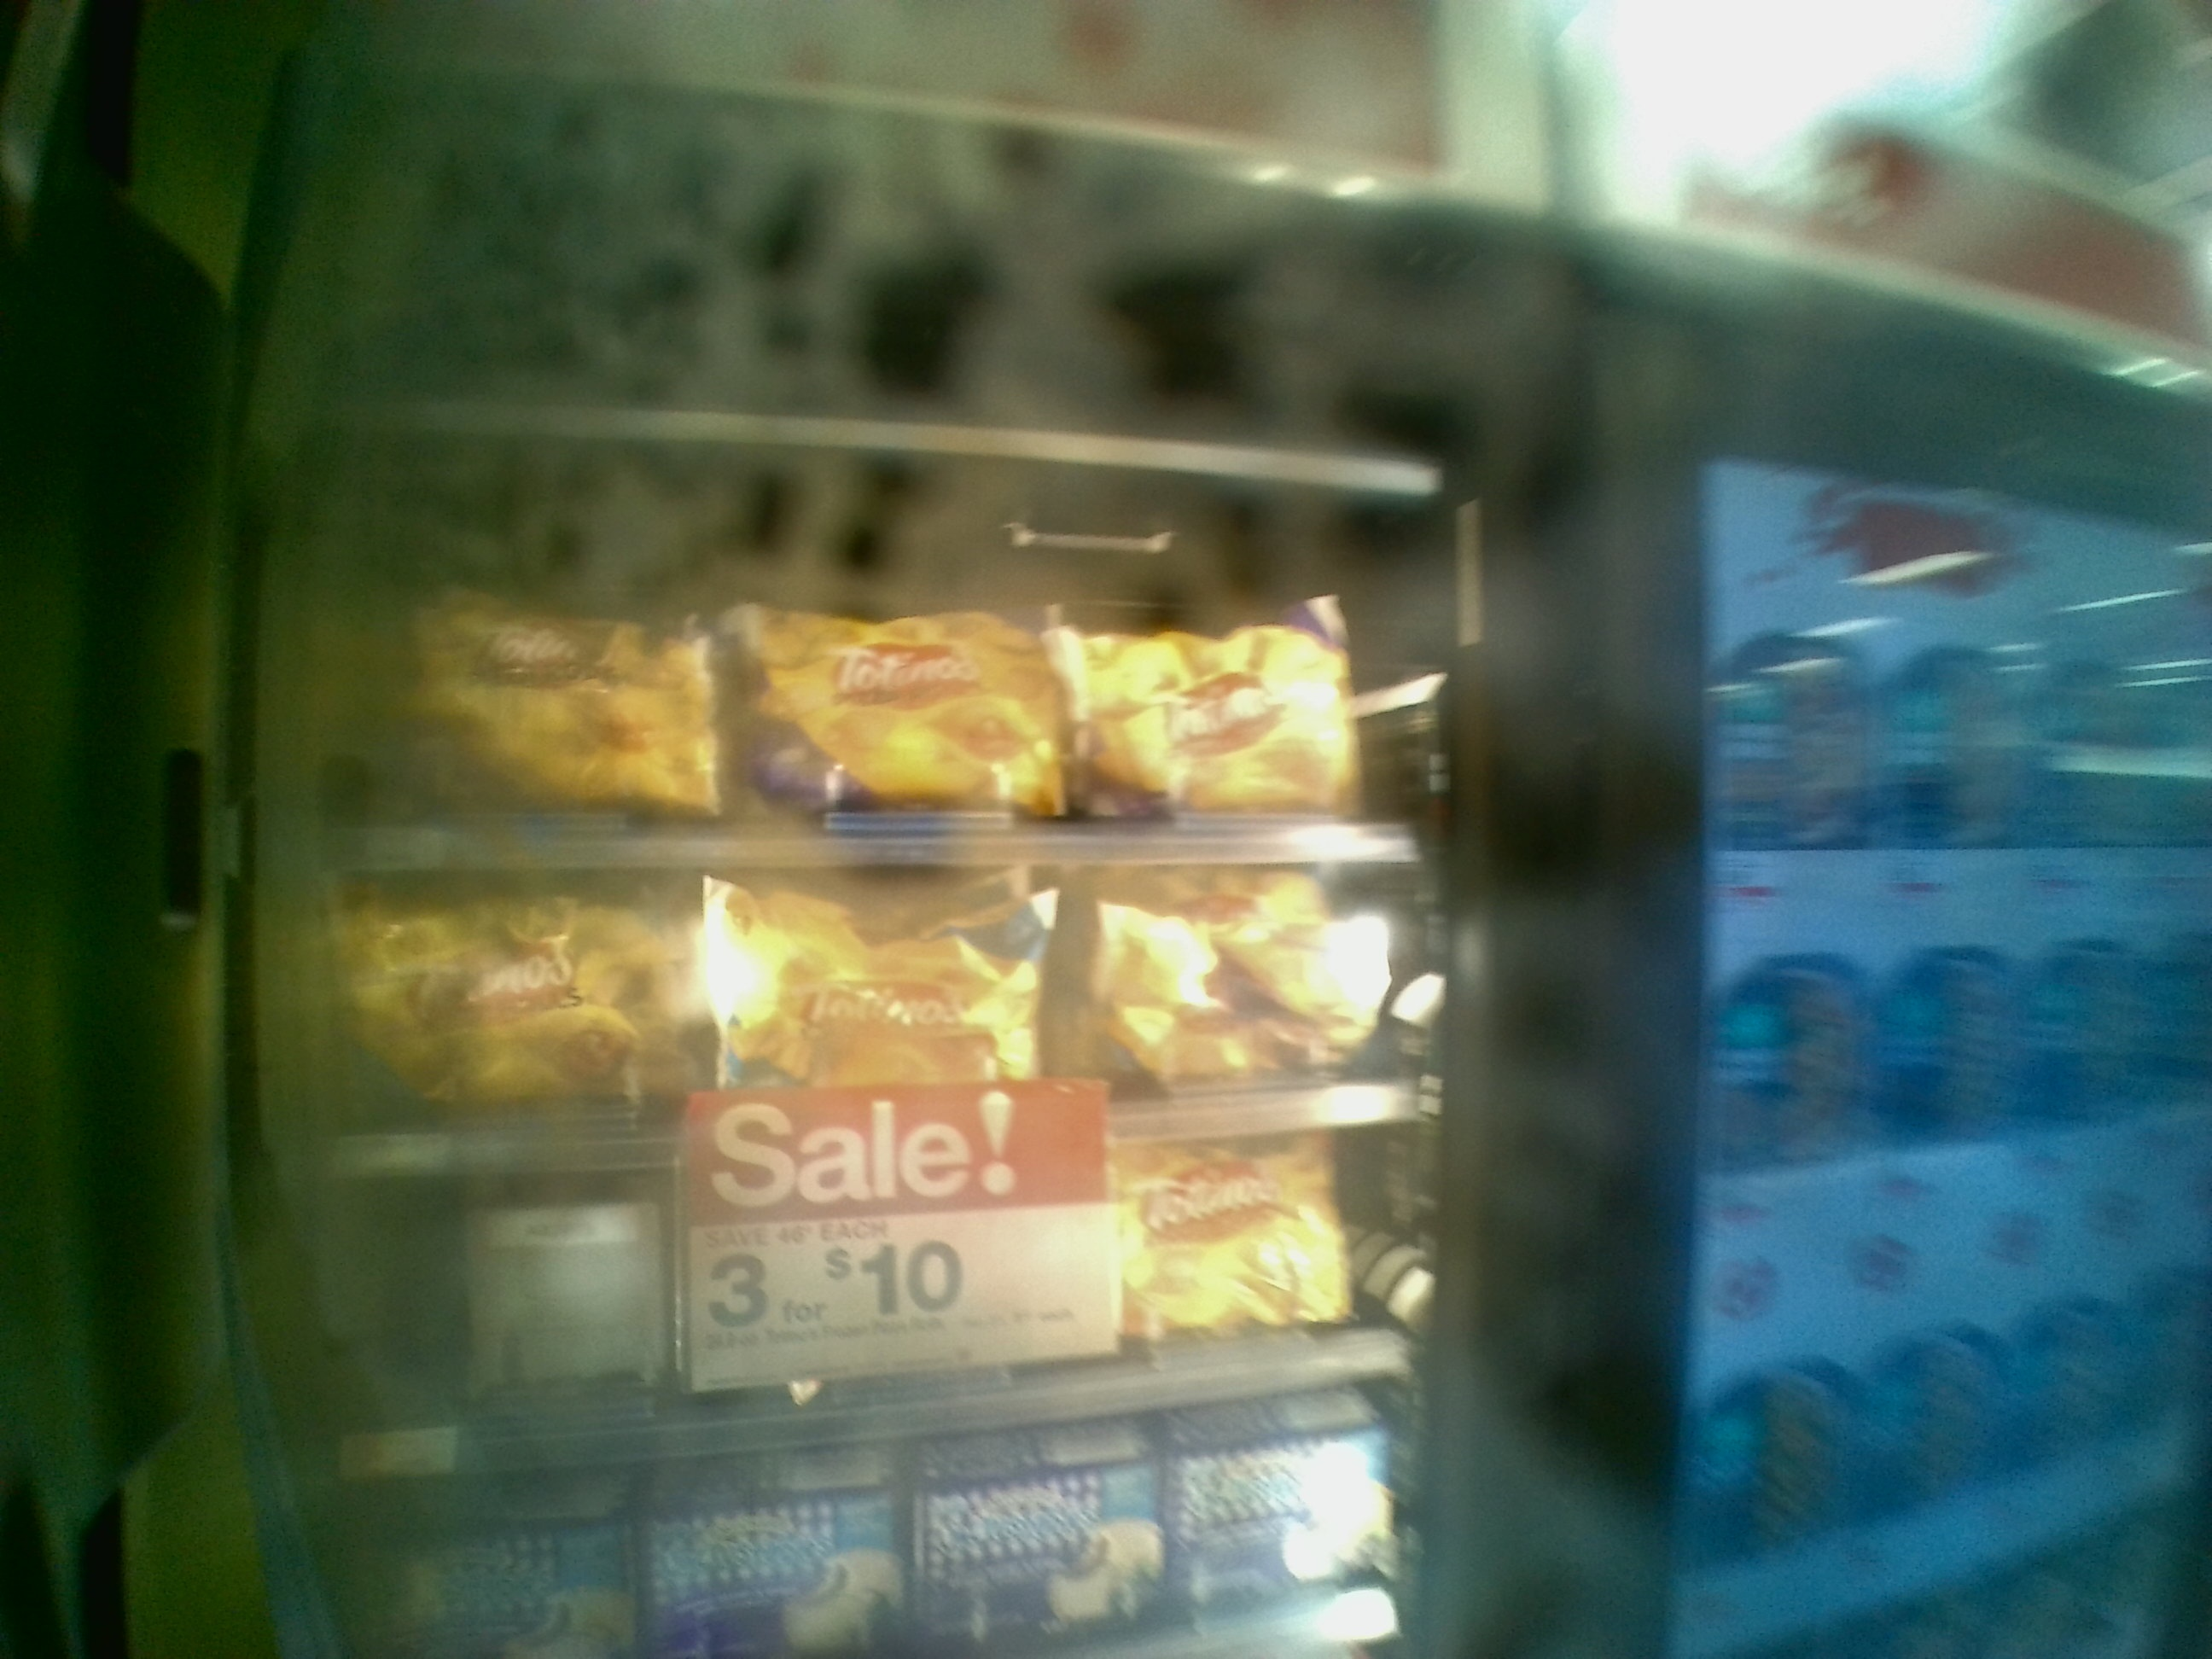shelf: (291, 410, 1446, 864)
